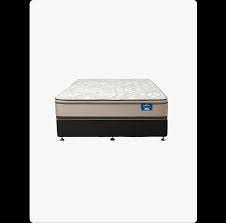bed-matress: (55, 76, 170, 118)
